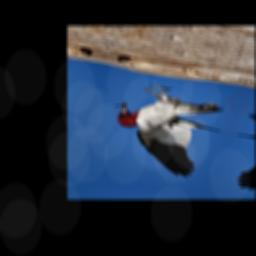Woodpecker: (99, 78, 232, 181)
